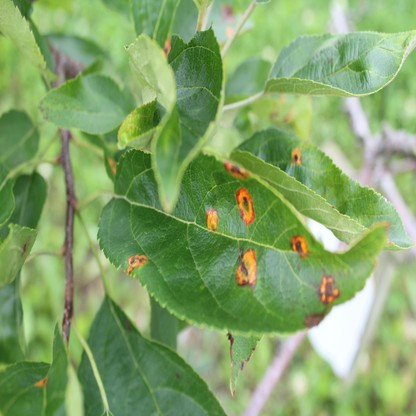rust: (237, 250, 257, 288), (236, 187, 254, 223), (321, 274, 340, 304), (219, 5, 234, 36), (223, 161, 249, 178), (291, 236, 308, 257), (127, 256, 146, 273), (205, 208, 218, 232), (303, 312, 322, 328), (290, 147, 301, 165), (34, 373, 48, 386), (107, 156, 117, 172), (164, 38, 170, 58)
